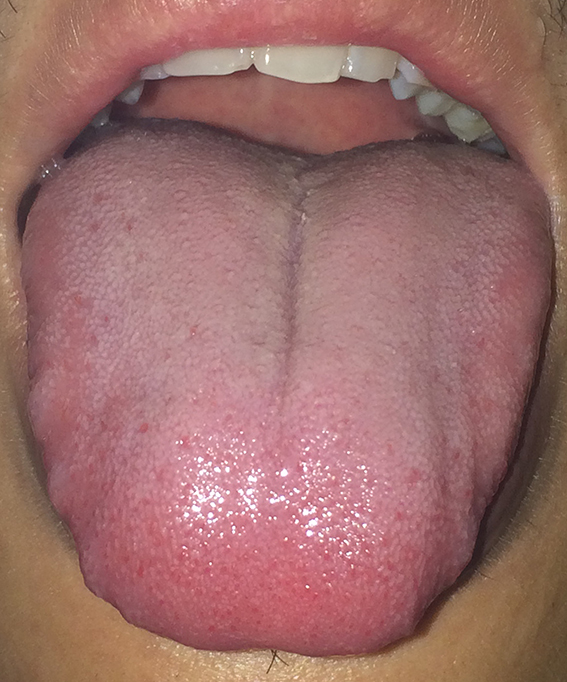baitaishe: (20, 118, 555, 657)
chihenshe: (25, 373, 89, 583)
hongshe: (20, 118, 555, 657)
liewenshe: (272, 158, 340, 411)
